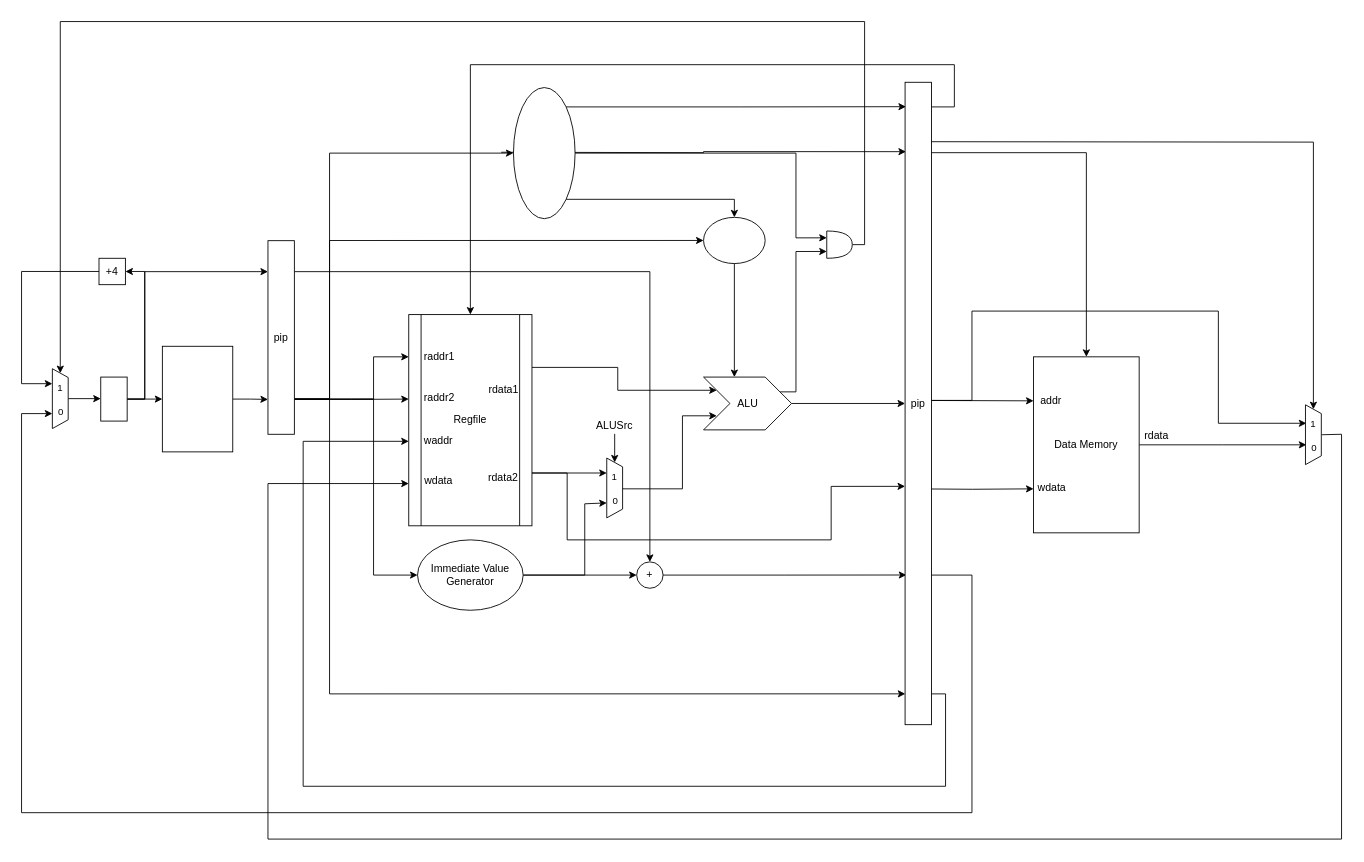
Some shapes in this 1364 by 862 pixel diagram are drawn without their labels. Here are the shapes that lost their labels. From the top down, the centre of each, then its label:
At point 544,153: "Controller".
At point 734,240: "ALU Control".
At point 113,398: "PC".
At point 197,398: "Instruction Memory".
